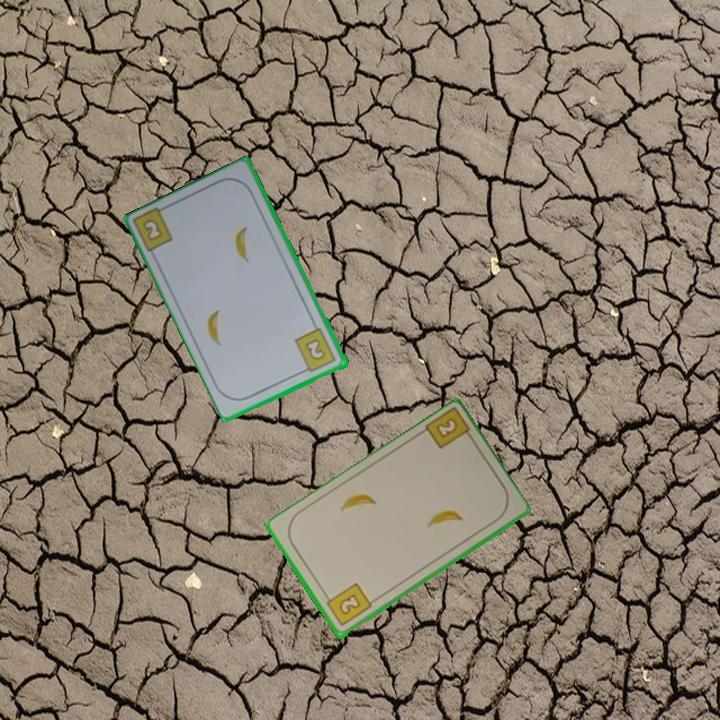2b: (321, 580, 375, 629), (421, 406, 477, 452), (291, 325, 339, 376), (139, 216, 166, 244)
